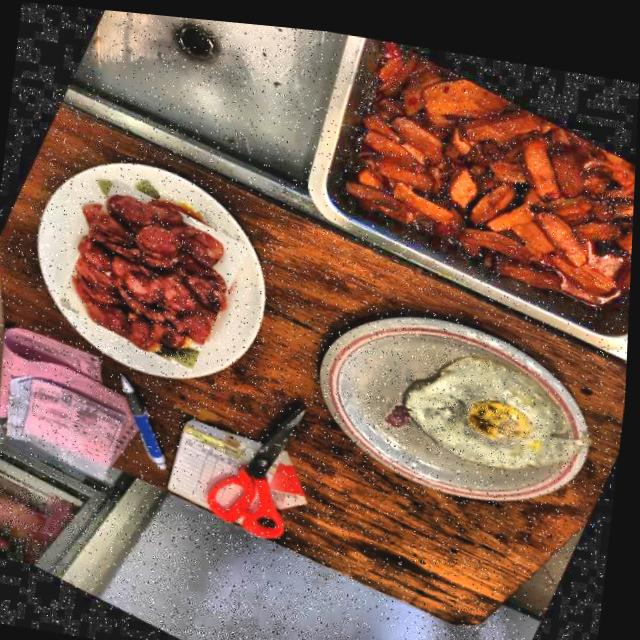Food: (53, 168, 256, 375), (392, 316, 592, 490)
